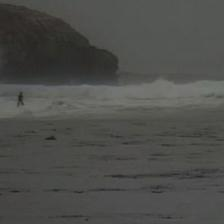surfer: (15, 94, 25, 106), (42, 134, 56, 142)
